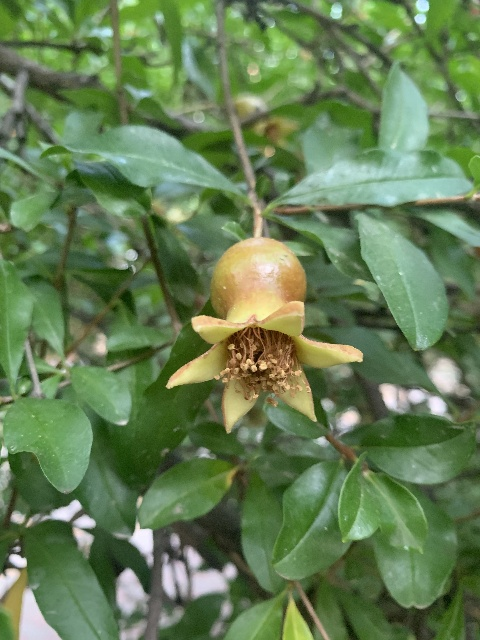early-fruit: (166, 236, 363, 435)
